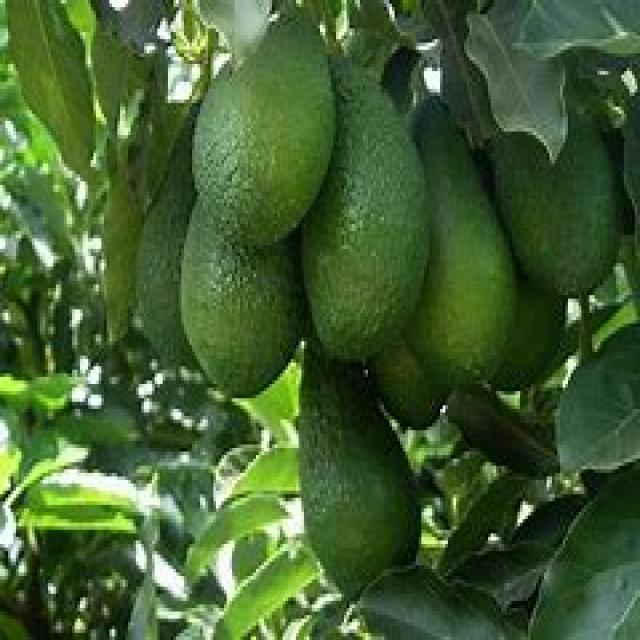Avocado: (267, 337, 434, 597), (189, 5, 335, 248), (304, 98, 434, 370), (413, 86, 520, 405), (177, 170, 310, 407), (491, 76, 633, 288), (134, 132, 185, 374)
